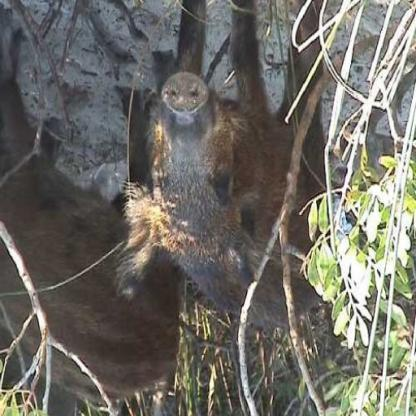boar: (137, 26, 391, 359)
